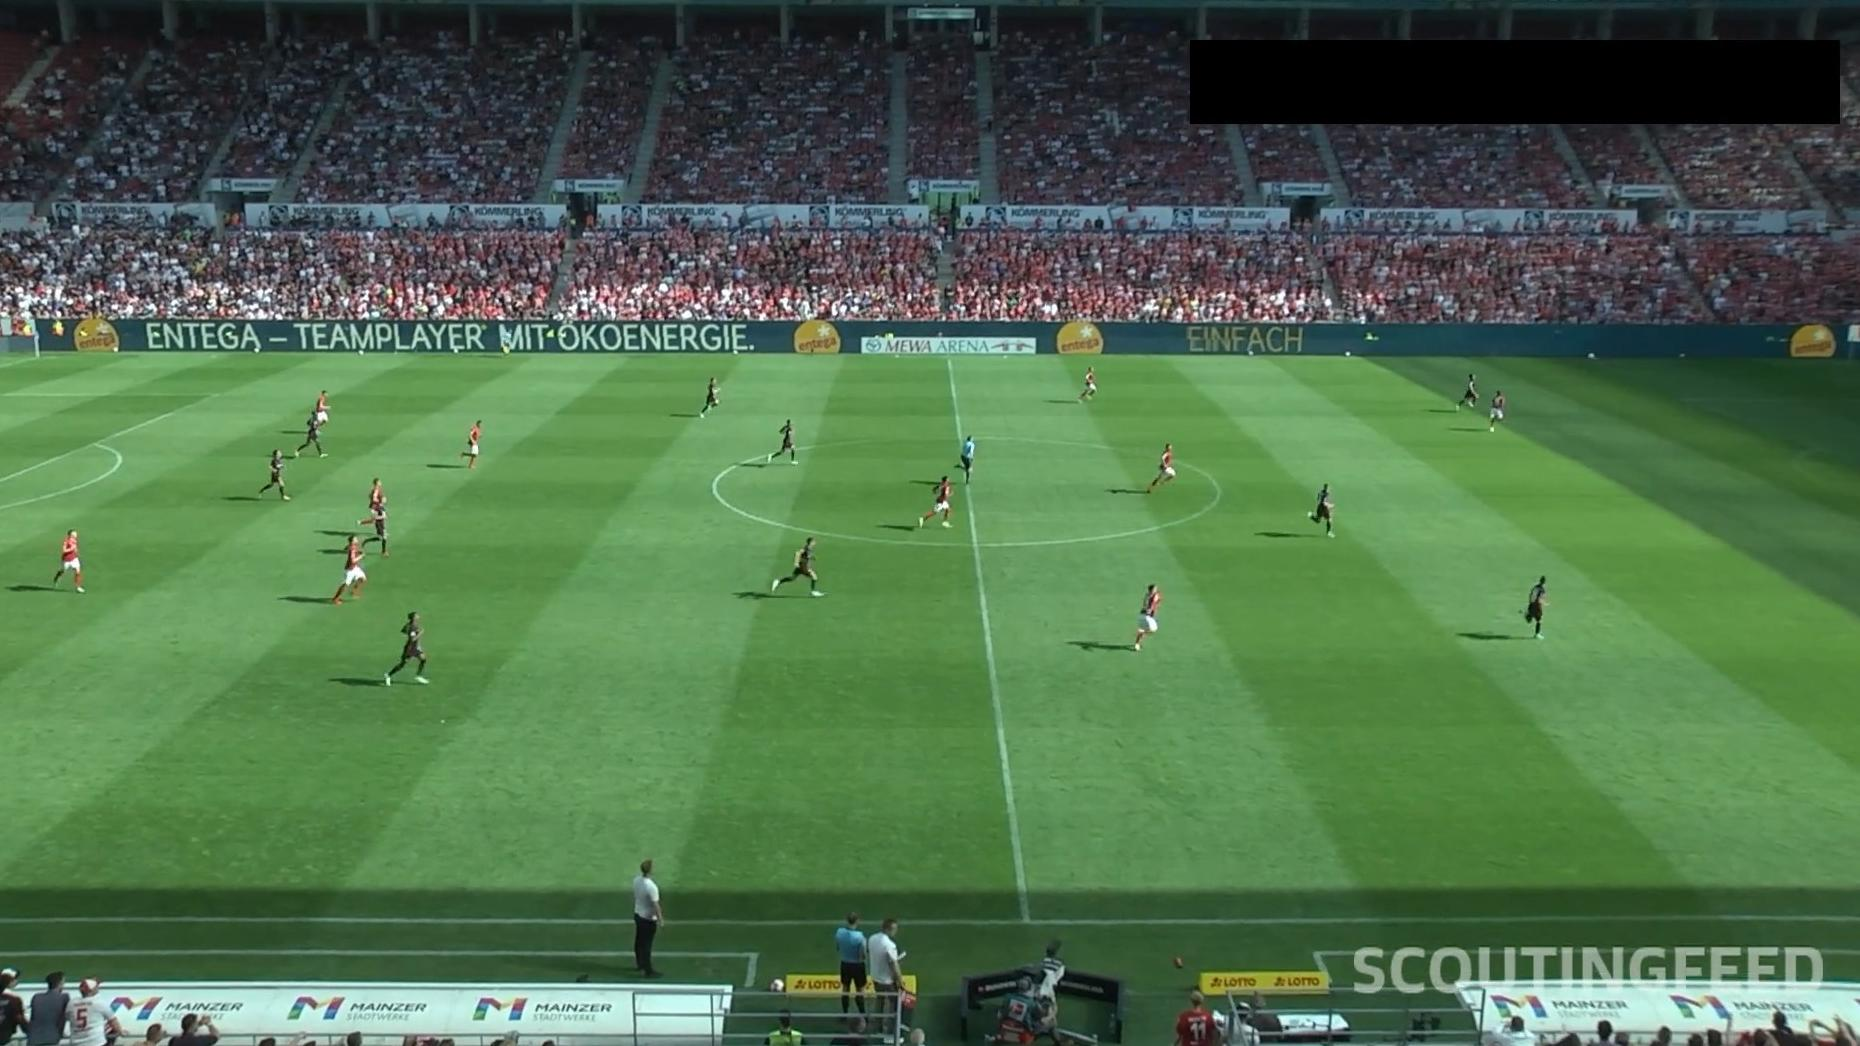ball: (1587, 351, 1594, 359)
